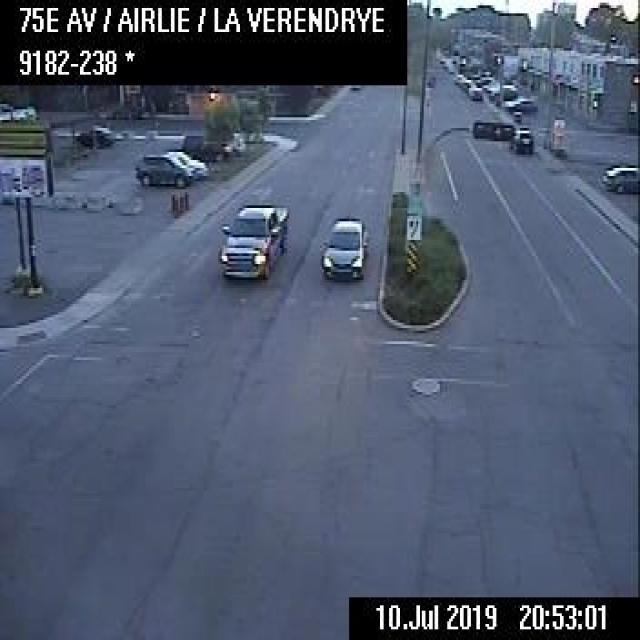construction: (181, 188, 187, 210), (168, 192, 174, 210), (172, 195, 177, 216), (177, 192, 182, 211)
vehicle: (214, 197, 288, 280), (320, 213, 365, 280), (134, 150, 192, 185), (182, 133, 231, 160), (600, 162, 638, 192), (170, 147, 205, 178), (78, 122, 114, 146), (507, 123, 535, 153), (509, 94, 537, 113), (468, 85, 481, 100)
